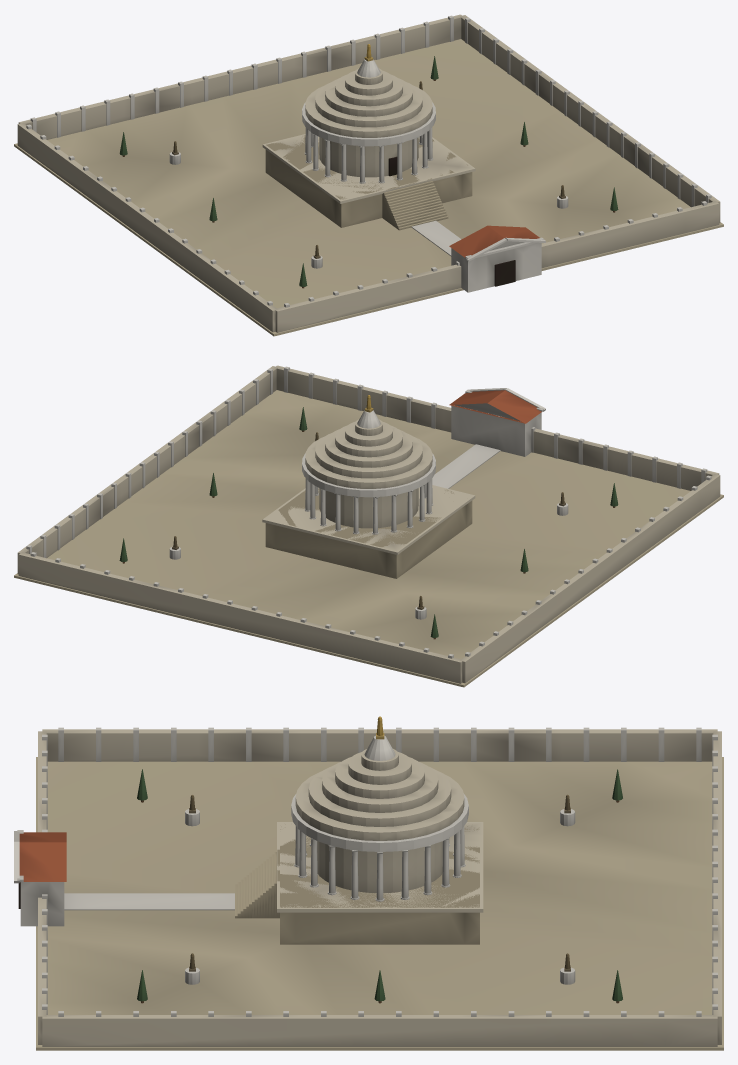
File: sema.glb
The picture shows the model from 3 angles, top to bottom: view 1: azimuth 30°, elevation 25°; view 2: azimuth 150°, elevation 25°; view 3: azimuth 270°, elevation 25°; orthographic projection. The views are drawn at different scales.
Parts seen in each view (by area): view 1: p0_precinct, p1_mausoleum, p2_roof; view 2: p0_precinct, p1_mausoleum, p2_roof; view 3: p0_precinct, p1_mausoleum, p2_roof.
Boxes of the visible parts, <box> form: p0_precinct: <box>14,14,723,336</box>; p1_mausoleum: <box>262,127,475,230</box>; p2_roof: <box>119,44,618,288</box>; p0_precinct: <box>14,365,723,687</box>; p1_mausoleum: <box>262,478,475,578</box>; p2_roof: <box>119,395,618,639</box>; p0_precinct: <box>14,727,723,1050</box>; p1_mausoleum: <box>235,822,483,944</box>; p2_roof: <box>137,716,622,1003</box>.
Size of the model in its own units: 110 by 33.31 by 114.
